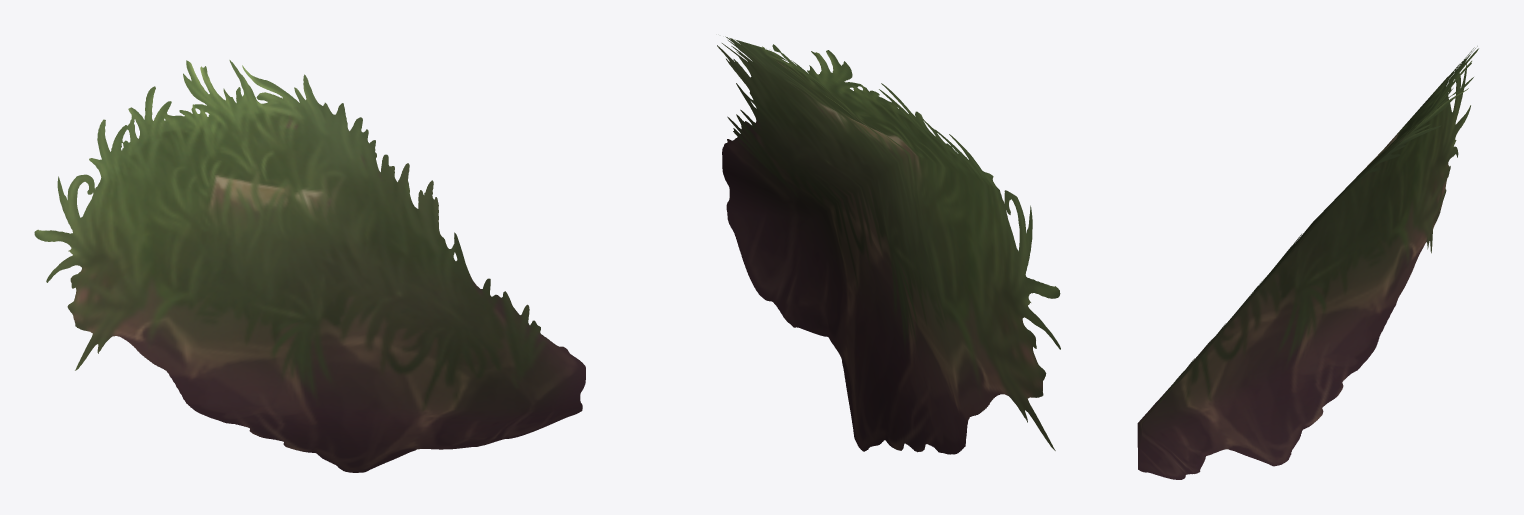
File: Falling Edge Jungle.FBX
3 renders of one model, left to right at view 1: azimuth 30°, elevation 25°; view 2: azimuth 150°, elevation 25°; view 3: azimuth 270°, elevation 25°, orthographic. The views are drawn at different scales.
Visible parts, largest first — view 1: Falling Edge Jungle FE; view 2: Falling Edge Jungle FE; view 3: Falling Edge Jungle FE.
Part boxes in pixels (x1,y1,x2,y2): Falling Edge Jungle FE: (34,60,585,472); Falling Edge Jungle FE: (717,36,1060,454); Falling Edge Jungle FE: (1137,46,1478,479).
Bounding box in the file's own units: 430 × 303 × 392.
